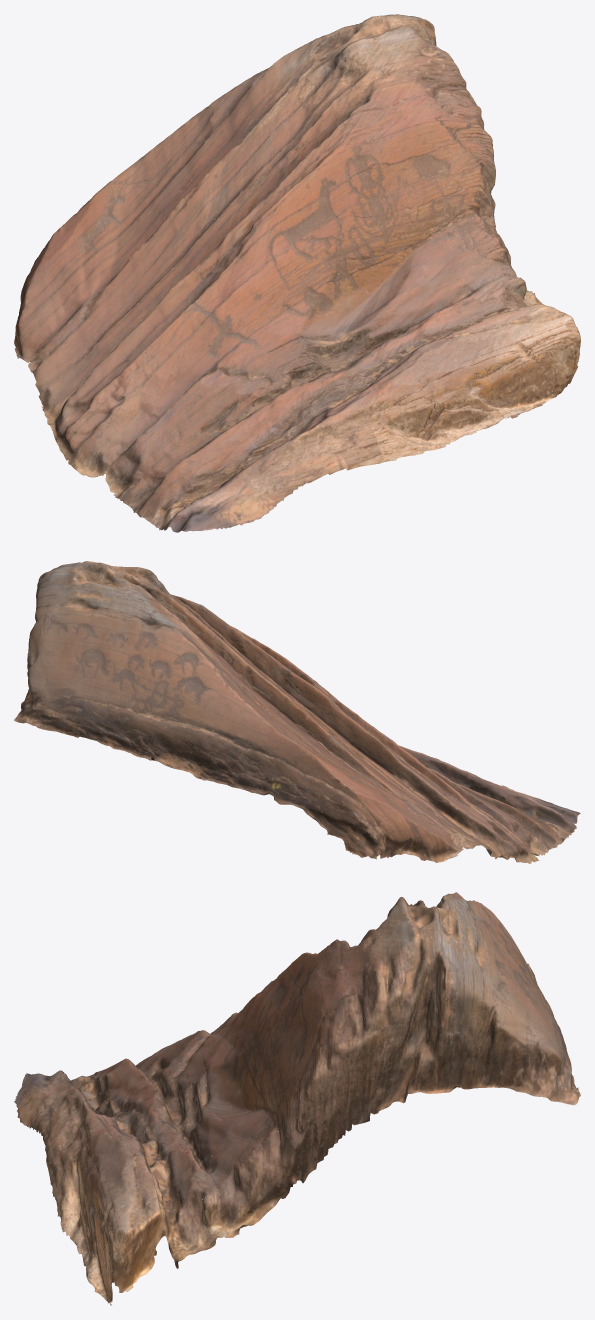
File: rock.glb
The picture shows the model from 3 angles, top to bottom: view 1: azimuth 30°, elevation 25°; view 2: azimuth 150°, elevation 25°; view 3: azimuth 270°, elevation 25°; orthographic projection. The views are drawn at different scales.
Parts seen in each view (by area): view 1: defaultMaterial; view 2: defaultMaterial; view 3: defaultMaterial.
Part boxes in pixels (box(x1,y1,x2,y2)): defaultMaterial: box(14, 14, 580, 532); defaultMaterial: box(14, 561, 580, 863); defaultMaterial: box(14, 892, 580, 1305).
Bounding box in the file's own units: 1.85 × 1.19 × 1.56.
1 material, 1 textured.
